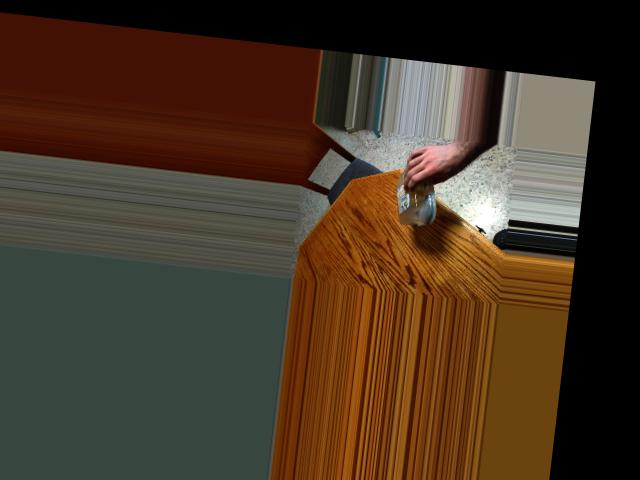cheese: (392, 158, 446, 216)
